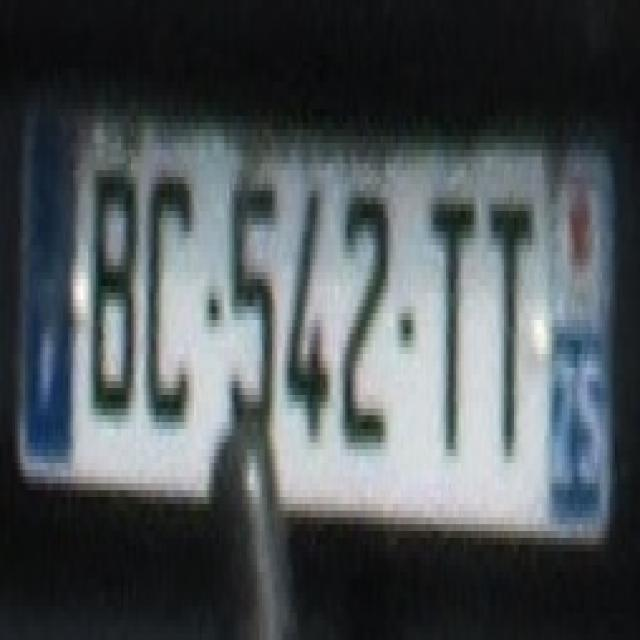Autre: (18, 85, 612, 532)
